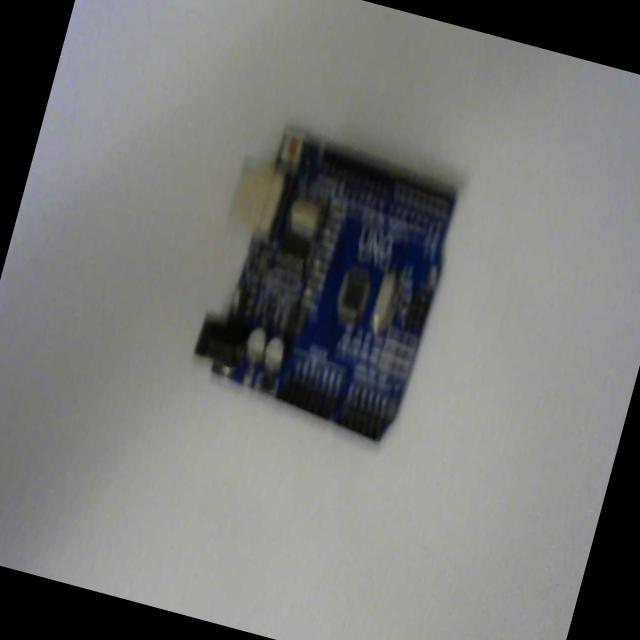arduino: (178, 111, 471, 455)
